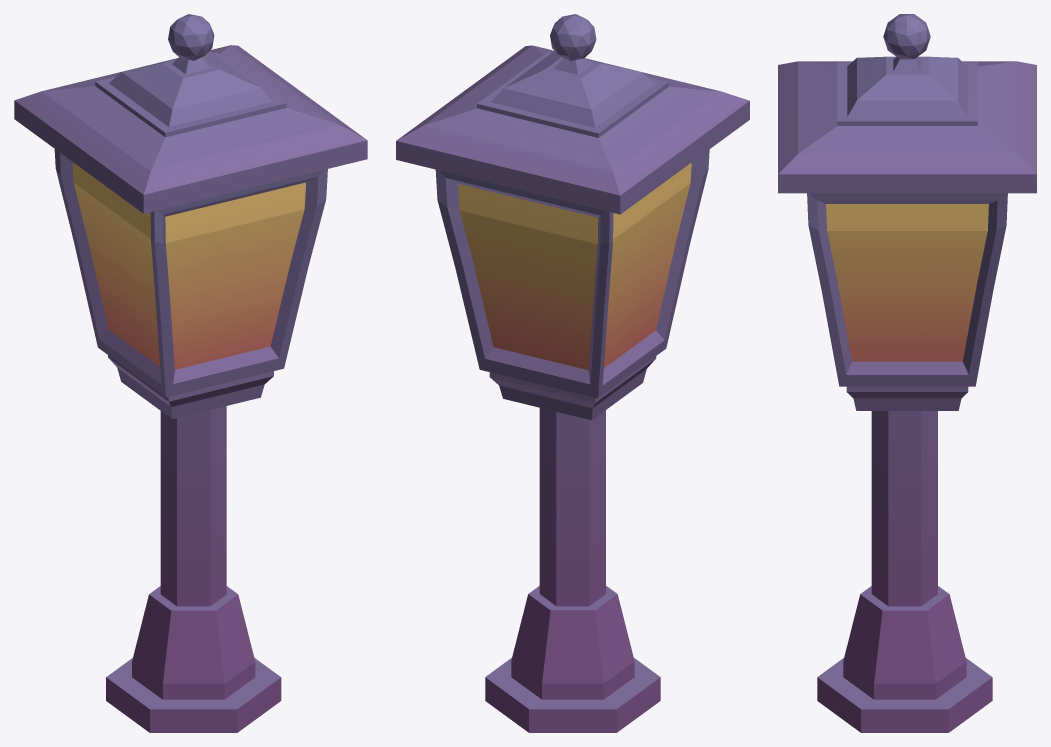
File: small_streetlamp_1.gltf
3 views of the same model, side by side, from view 1: azimuth 30°, elevation 25°; view 2: azimuth 150°, elevation 25°; view 3: azimuth 270°, elevation 25° (orthographic).
Visible parts, largest first — view 1: Object_34; view 2: Object_34; view 3: Object_34.
Boxes of the visible parts, left/top/right/bottom form: Object_34: left=14, top=14, right=367, bottom=732; Object_34: left=396, top=14, right=749, bottom=732; Object_34: left=778, top=14, right=1036, bottom=732.
Size of the model in its own units: 1.42 by 4.16 by 1.42.
1 material, 1 textured.
